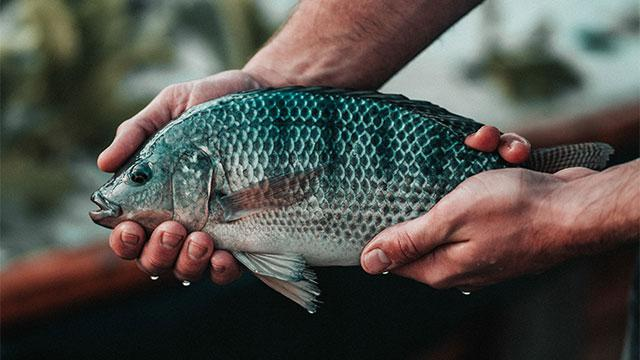Mulut: (70, 179, 128, 245)
Sirip Dada: (206, 154, 354, 234)
Sirip Perut: (234, 237, 334, 325)
